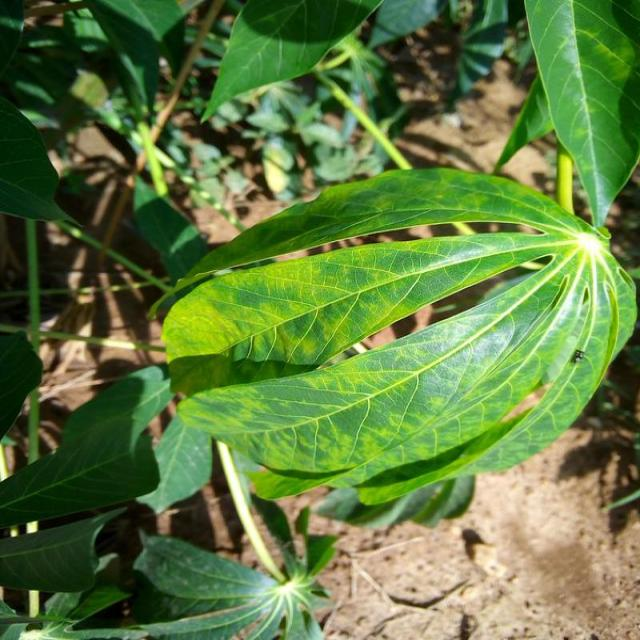cassava leaf: (155, 165, 637, 507), (522, 0, 638, 228)
